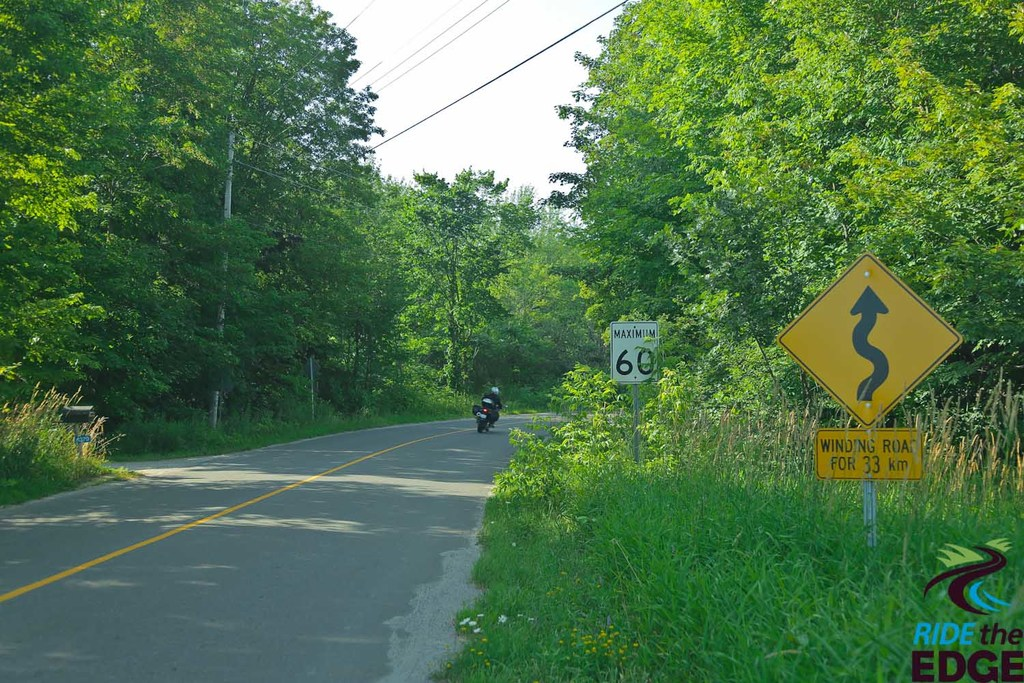speed_limit_25: (611, 322, 662, 382)
speed_limit_60: (610, 320, 665, 382)
winding_road_ahead: (776, 255, 964, 428)
